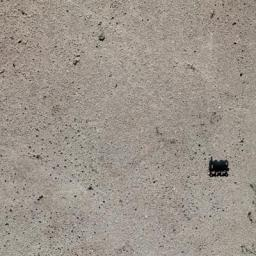FOD: (207, 157, 234, 183)
